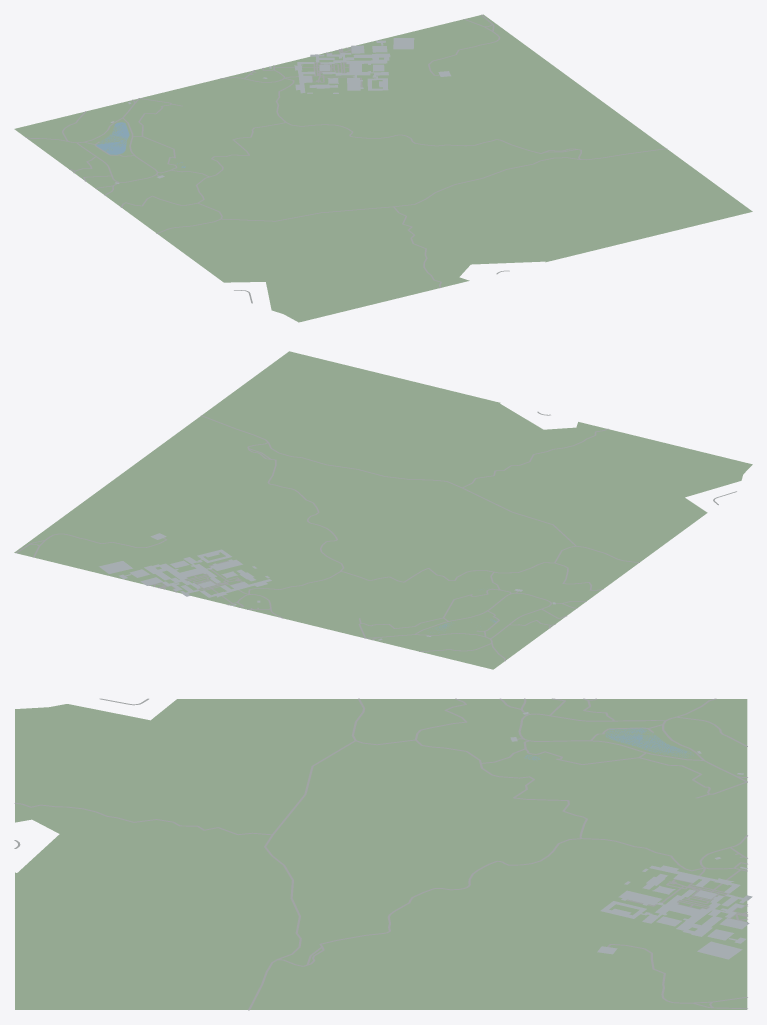
File: 15_4-known-coarse.glb
3 renders of one model, top to bottom at view 1: azimuth 30°, elevation 25°; view 2: azimuth 150°, elevation 25°; view 3: azimuth 270°, elevation 25°, orthographic. The views are drawn at different scales.
Bounding box in the file's own units: 1003 × 0.15 × 1004.
